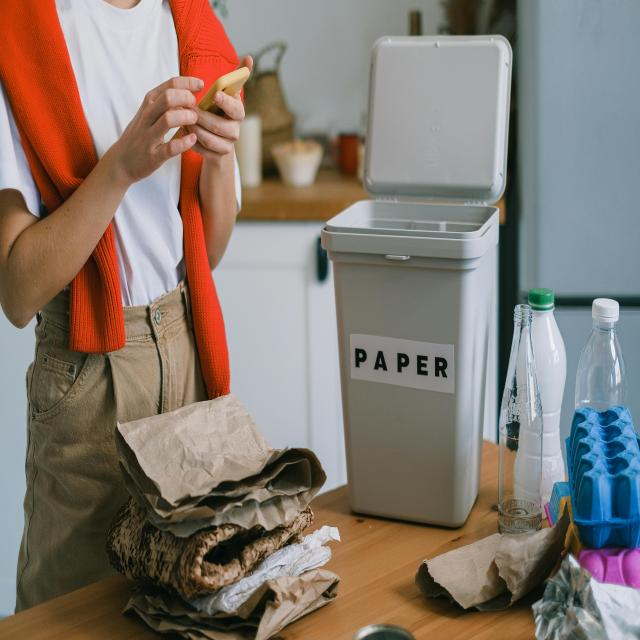paper: (144, 426, 262, 505), (437, 544, 522, 608)
plastic: (584, 328, 628, 544), (505, 320, 552, 505)
